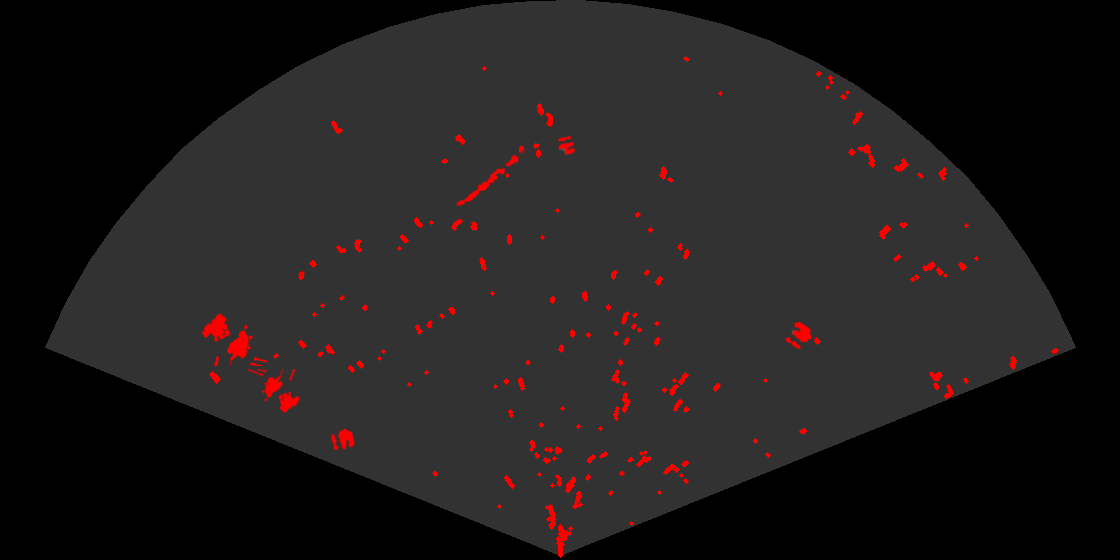ball: (784, 320, 813, 351), (329, 427, 357, 452), (556, 134, 577, 157)
cage: (200, 312, 267, 366), (248, 369, 302, 415)
chain: (455, 148, 529, 208)
